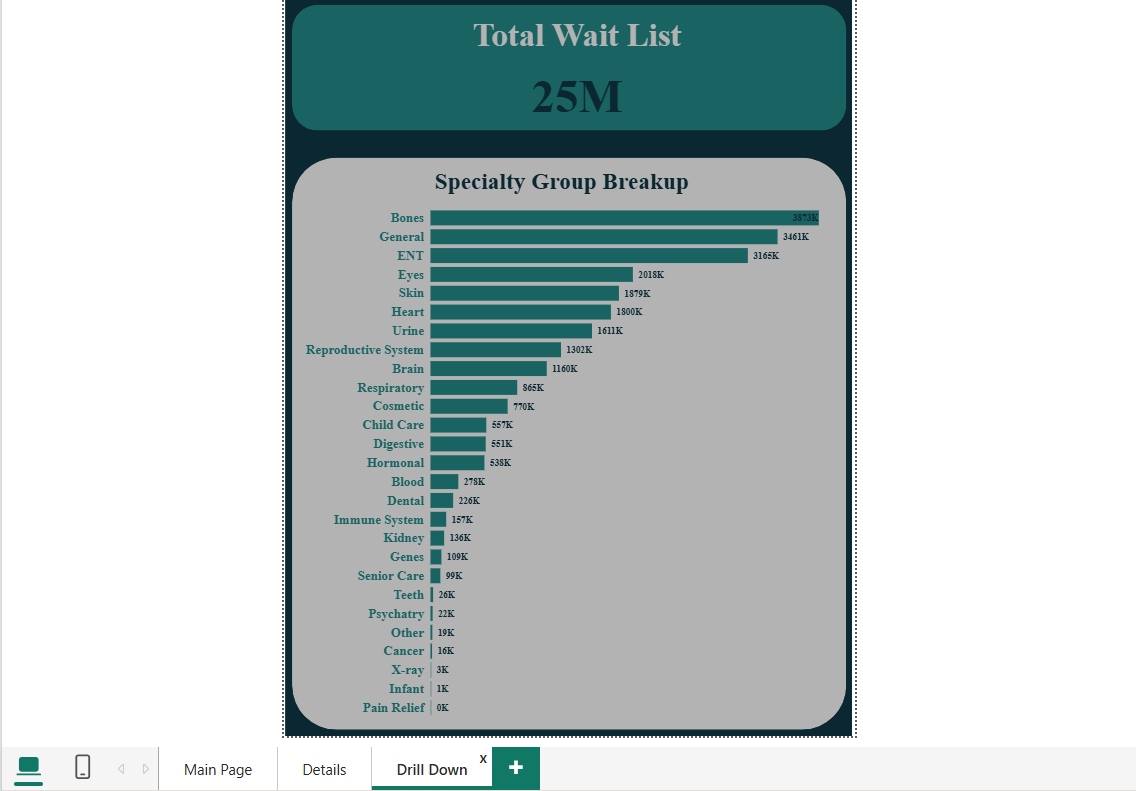

The dashboard page shown, as its layout file describes it:
{"tool":"powerbi","page":{"name":"Drill Down","canvas":[816,1056],"ordinal":2},"visuals":[{"type":"shape","box":[-0.8,0,812.9,1056.3],"z":0},{"type":"shape","box":[1.7,0,812.9,189.9],"z":1000},{"type":"card","title":"Total Wait List","fields":{"Values":["Sum(All_Data.Total)"]},"box":[212.3,25.9,412.5,164],"z":2000},{"type":"shape","box":[1.7,210.6,812.9,845.7],"z":3000},{"type":"barChart","title":"Specialty Group Breakup","fields":{"Category":["Mapping_Specialty.Specialty Group"],"Y":["Sum(All_Data.Total)"]},"box":[24.2,243.4,745.6,799.1],"z":4000}]}

Visuals, with their boxes on the page's 816x1056 design canvas (x1, y1, x2, y2). These are canvas units, not pixel positions in the 1136x791 screenshot, which may show the page scaled, cropped or inside an application window:
shape: bbox=[-1, 0, 812, 1056]
shape: bbox=[2, 0, 815, 190]
"Total Wait List" card: bbox=[212, 26, 625, 190]
shape: bbox=[2, 211, 815, 1056]
"Specialty Group Breakup" barChart: bbox=[24, 243, 770, 1042]
